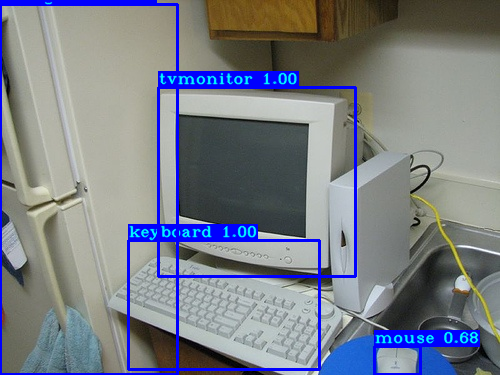keyboard: (128, 240, 319, 369)
mouse: (374, 346, 420, 374)
refrigerator: (0, 4, 177, 374)
tvmonitor: (158, 87, 355, 276)
